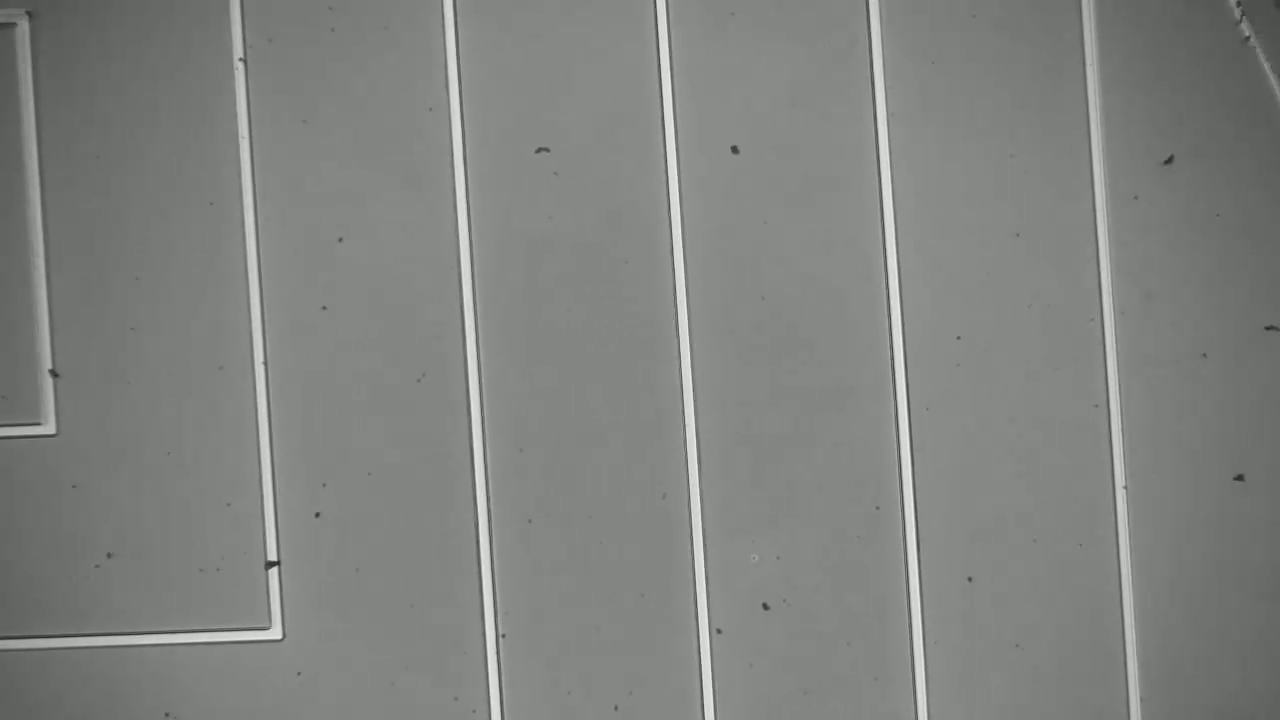scratch: (1226, 2, 1276, 94)
stains_enbedded: (34, 360, 72, 389), (260, 554, 290, 581)
